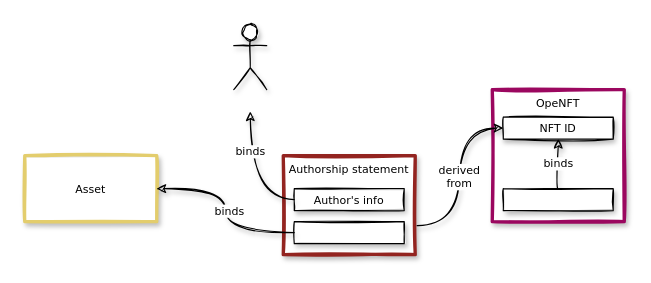
This 651x283 diagram has some shape labels left out. Here are the shapes that lost their labels. From the top down, the centre of each, then its label:
the point at 250,57: Author
the point at 559,200: NFT
the point at 350,233: Asset ID
